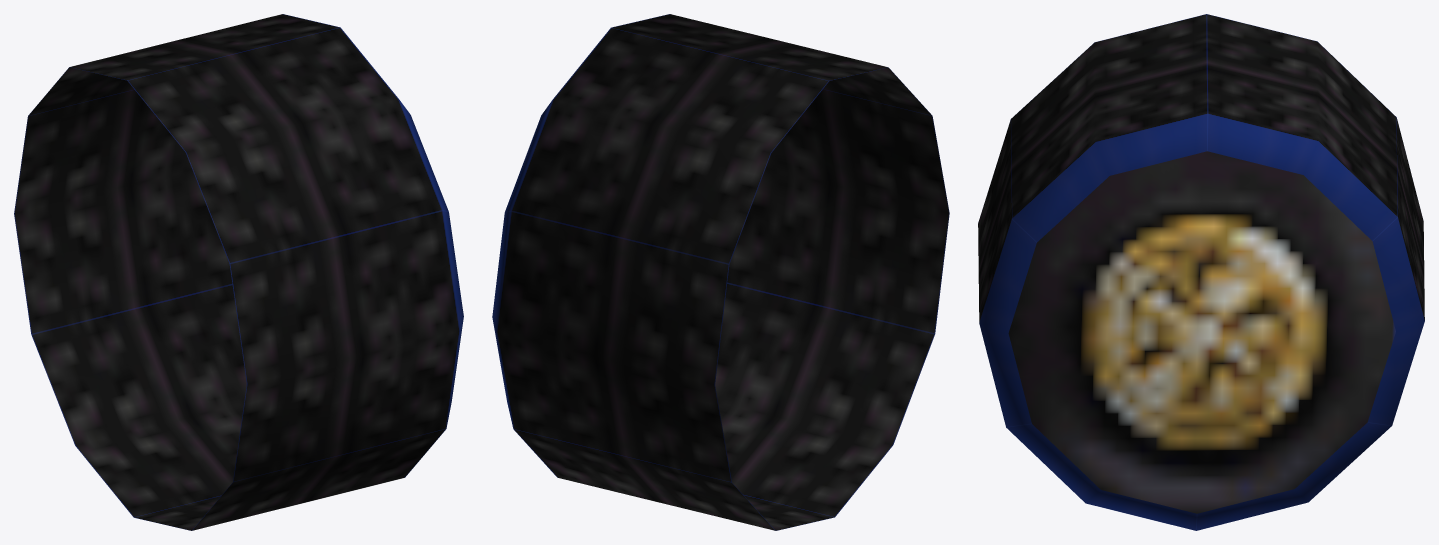
The model's file is front_Wheel.obj.
The picture shows the model from 3 angles, left to right: view 1: azimuth 30°, elevation 25°; view 2: azimuth 150°, elevation 25°; view 3: azimuth 270°, elevation 25°; orthographic projection. The views are drawn at different scales.
Visible parts, largest first — view 1: Kart.003; view 2: Kart.003; view 3: Kart.003.
Part boxes in pixels (left/top/right/bottom): Kart.003: left=14, top=14, right=463, bottom=530; Kart.003: left=492, top=14, right=949, bottom=530; Kart.003: left=978, top=14, right=1424, bottom=530.
Size of the model in its own units: 3.64 by 6.44 by 6.25.
